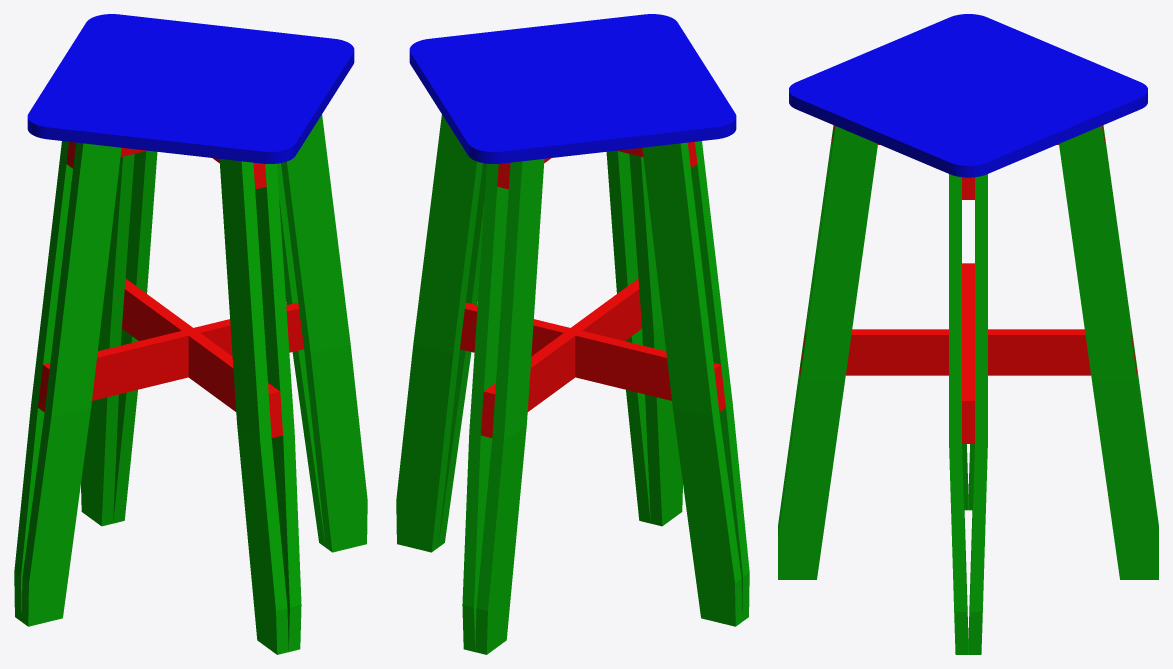
File: result.glb
The picture shows the model from 3 angles, left to right: view 1: azimuth 30°, elevation 25°; view 2: azimuth 150°, elevation 25°; view 3: azimuth 270°, elevation 25°; orthographic projection. The views are drawn at different scales.
Parts seen in each view (by area): view 1: 5b54019a-bdc1-4701-8391-f3348f65863c__undefined, a7dabe28-1fdc-44e2-b014-4398b25348ef__undefined, 5a1f620e-b5d5-41d8-a1f0-2889c1fbdd5d__undefined, 51e4ec9b-93d7-4ad2-ba09-e2daaa5b0733__Box_4, f89ee65f-bdd7-40e2-83b3-e59f01147010__Box_5, cef3eb3b-9fe5-4f9d-9fbb-ecba0de5427a__Box_6, 5ca4d113-edeb-45df-9884-8eb4a363cf32__undefined, d80d4c13-7df1-440b-a41d-bb6926e651f1__undefined, 1911a3cc-f85d-4745-8ed3-9429e9852621__undefined, 2cd5a38e-0707-4968-b7ae-d86b0addd20f__undefined, a8445355-4732-46e2-818f-b2fbfb1c3f81__undefined, 12b05984-ebd3-4700-9821-80976723f1b1__undefined (+1 smaller); view 2: 2cd5a38e-0707-4968-b7ae-d86b0addd20f__undefined, b3c911e4-6896-44d0-a27d-e415337e4711__undefined, d80d4c13-7df1-440b-a41d-bb6926e651f1__undefined, cef3eb3b-9fe5-4f9d-9fbb-ecba0de5427a__Box_6, f89ee65f-bdd7-40e2-83b3-e59f01147010__Box_5, 51e4ec9b-93d7-4ad2-ba09-e2daaa5b0733__Box_4, 12b05984-ebd3-4700-9821-80976723f1b1__undefined, 5a1f620e-b5d5-41d8-a1f0-2889c1fbdd5d__undefined, 1911a3cc-f85d-4745-8ed3-9429e9852621__undefined, 5b54019a-bdc1-4701-8391-f3348f65863c__undefined, a8445355-4732-46e2-818f-b2fbfb1c3f81__undefined, 5ca4d113-edeb-45df-9884-8eb4a363cf32__undefined (+1 smaller); view 3: 12b05984-ebd3-4700-9821-80976723f1b1__undefined, 5ca4d113-edeb-45df-9884-8eb4a363cf32__undefined, cef3eb3b-9fe5-4f9d-9fbb-ecba0de5427a__Box_6, f89ee65f-bdd7-40e2-83b3-e59f01147010__Box_5, 51e4ec9b-93d7-4ad2-ba09-e2daaa5b0733__Box_4, a8445355-4732-46e2-818f-b2fbfb1c3f81__undefined, a7dabe28-1fdc-44e2-b014-4398b25348ef__undefined, b3c911e4-6896-44d0-a27d-e415337e4711__undefined, 1911a3cc-f85d-4745-8ed3-9429e9852621__undefined, d80d4c13-7df1-440b-a41d-bb6926e651f1__undefined, 5a1f620e-b5d5-41d8-a1f0-2889c1fbdd5d__undefined.
Part boxes in pixels (<box>): 5b54019a-bdc1-4701-8391-f3348f65863c__undefined: <box>21,142,121,626</box>; a7dabe28-1fdc-44e2-b014-4398b25348ef__undefined: <box>281,115,367,552</box>; 5a1f620e-b5d5-41d8-a1f0-2889c1fbdd5d__undefined: <box>219,159,288,654</box>; 51e4ec9b-93d7-4ad2-ba09-e2daaa5b0733__Box_4: <box>27,86,312,163</box>; f89ee65f-bdd7-40e2-83b3-e59f01147010__Box_5: <box>46,49,336,128</box>; cef3eb3b-9fe5-4f9d-9fbb-ecba0de5427a__Box_6: <box>69,14,354,90</box>; 5ca4d113-edeb-45df-9884-8eb4a363cf32__undefined: <box>255,163,301,651</box>; d80d4c13-7df1-440b-a41d-bb6926e651f1__undefined: <box>81,154,134,526</box>; 1911a3cc-f85d-4745-8ed3-9429e9852621__undefined: <box>38,302,303,412</box>; 2cd5a38e-0707-4968-b7ae-d86b0addd20f__undefined: <box>14,141,72,621</box>; a8445355-4732-46e2-818f-b2fbfb1c3f81__undefined: <box>122,278,282,437</box>; 12b05984-ebd3-4700-9821-80976723f1b1__undefined: <box>113,150,157,523</box>; 2cd5a38e-0707-4968-b7ae-d86b0addd20f__undefined: <box>642,142,742,626</box>; b3c911e4-6896-44d0-a27d-e415337e4711__undefined: <box>396,115,482,552</box>; d80d4c13-7df1-440b-a41d-bb6926e651f1__undefined: <box>475,159,544,654</box>; cef3eb3b-9fe5-4f9d-9fbb-ecba0de5427a__Box_6: <box>409,31,564,163</box>; f89ee65f-bdd7-40e2-83b3-e59f01147010__Box_5: <box>493,21,653,156</box>; 51e4ec9b-93d7-4ad2-ba09-e2daaa5b0733__Box_4: <box>582,14,736,146</box>; 12b05984-ebd3-4700-9821-80976723f1b1__undefined: <box>462,163,508,651</box>; 5a1f620e-b5d5-41d8-a1f0-2889c1fbdd5d__undefined: <box>629,154,682,526</box>; 1911a3cc-f85d-4745-8ed3-9429e9852621__undefined: <box>460,302,725,412</box>; 5b54019a-bdc1-4701-8391-f3348f65863c__undefined: <box>691,141,749,621</box>; a8445355-4732-46e2-818f-b2fbfb1c3f81__undefined: <box>481,278,641,437</box>; 5ca4d113-edeb-45df-9884-8eb4a363cf32__undefined: <box>606,150,650,523</box>; 12b05984-ebd3-4700-9821-80976723f1b1__undefined: <box>1059,126,1158,579</box>; 5ca4d113-edeb-45df-9884-8eb4a363cf32__undefined: <box>778,126,877,579</box>; cef3eb3b-9fe5-4f9d-9fbb-ecba0de5427a__Box_6: <box>905,63,1147,177</box>; f89ee65f-bdd7-40e2-83b3-e59f01147010__Box_5: <box>841,36,1094,154</box>; 51e4ec9b-93d7-4ad2-ba09-e2daaa5b0733__Box_4: <box>789,14,1031,128</box>; a8445355-4732-46e2-818f-b2fbfb1c3f81__undefined: <box>800,329,1136,375</box>; a7dabe28-1fdc-44e2-b014-4398b25348ef__undefined: <box>949,174,968,654</box>; b3c911e4-6896-44d0-a27d-e415337e4711__undefined: <box>968,174,987,654</box>; 1911a3cc-f85d-4745-8ed3-9429e9852621__undefined: <box>962,263,974,443</box>; d80d4c13-7df1-440b-a41d-bb6926e651f1__undefined: <box>1103,125,1158,530</box>; 5a1f620e-b5d5-41d8-a1f0-2889c1fbdd5d__undefined: <box>778,125,833,530</box>.
Size of the model in its own units: 382 by 536 by 382.
